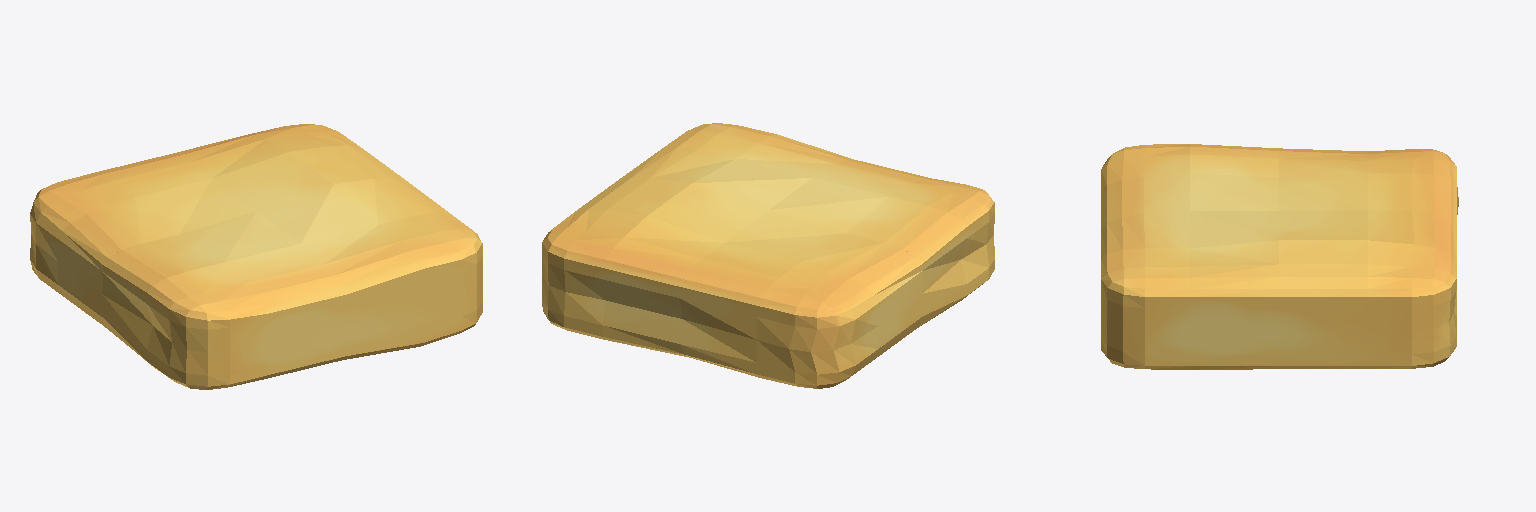
3 views of the same model, side by side, from view 1: azimuth 30°, elevation 25°; view 2: azimuth 150°, elevation 25°; view 3: azimuth 270°, elevation 25° (orthographic).
Visible parts, largest first — view 1: butter-col; view 2: butter-col; view 3: butter-col.
Boxes of the visible parts, x1,y1,x2,y2 form: butter-col: [30, 124, 482, 389]; butter-col: [542, 123, 994, 388]; butter-col: [1101, 144, 1458, 369].
Bounding box in the file's own units: 0.6 × 0.1983 × 0.6043.
1 materials, 1 textured.